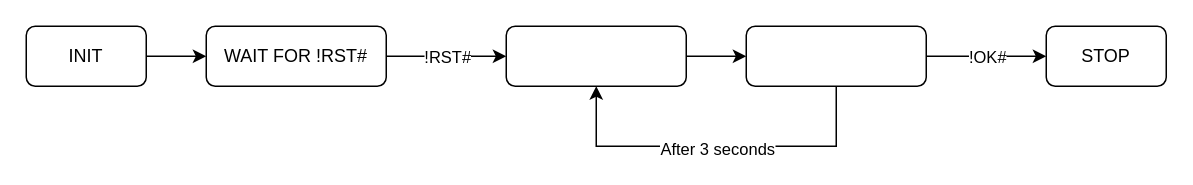
Some shapes in this 1193 by 185 pixel diagram are drawn without their labels. The shapes that lost their labels are listed below. From the top down, each one's centre as x and y in pixels, then its label:
At [595,55]: "READ ADC VALUE".
At [835,55]: "SEND ADC VALUE".
